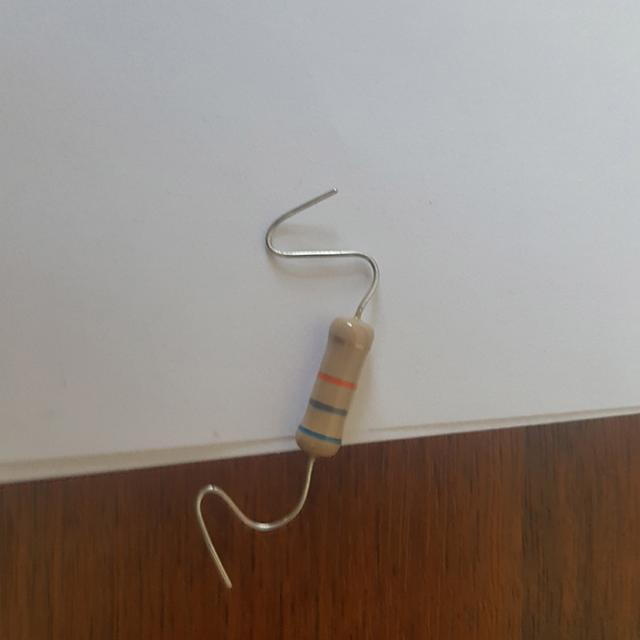blue: (298, 425, 341, 443)
gold: (328, 334, 366, 350)
grey: (309, 399, 347, 415)
orange: (318, 371, 356, 388)
resistor: (279, 289, 387, 475)
